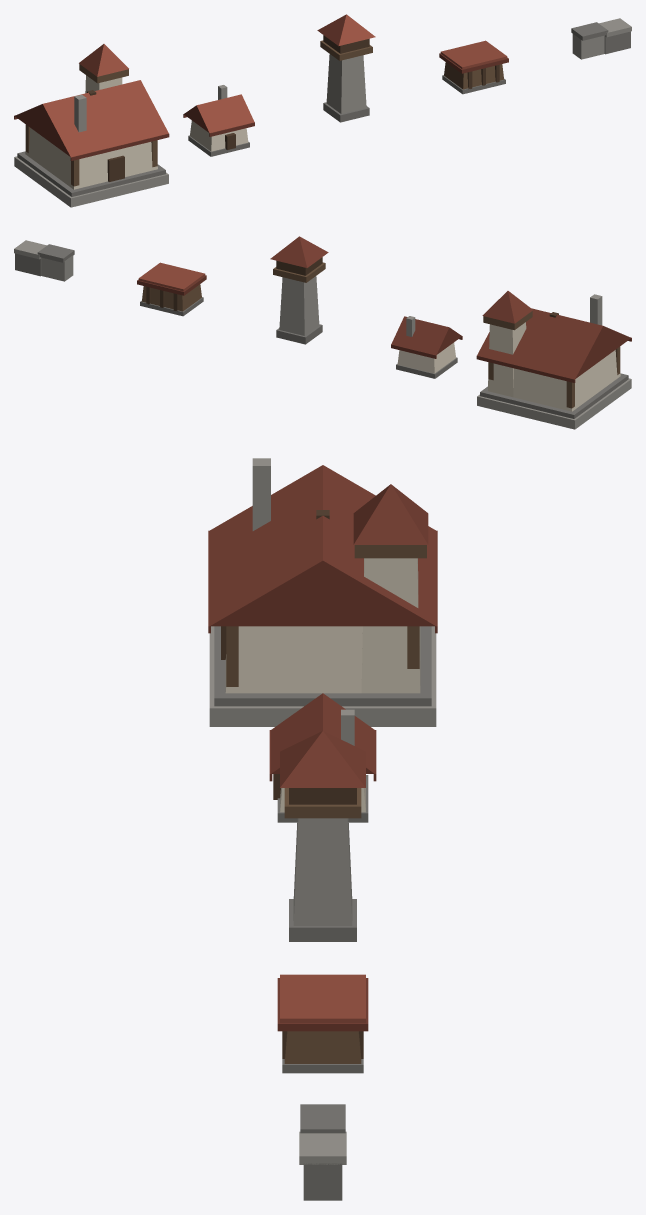
File: buildings.glb
3 renders of one model, top to bottom at view 1: azimuth 30°, elevation 25°; view 2: azimuth 150°, elevation 25°; view 3: azimuth 270°, elevation 25°, orthographic. The views are drawn at different scales.
Parts seen in each view (by area): view 1: keep, tower, house, store, wall; view 2: keep, tower, house, store, wall; view 3: keep, tower, store, house, wall.
Boxes of the visible parts, <box> form: keep: <box>14,44,169,207</box>; tower: <box>317,14,375,122</box>; house: <box>183,85,254,156</box>; store: <box>439,40,508,94</box>; wall: <box>571,18,631,59</box>; keep: <box>476,291,631,429</box>; tower: <box>270,236,328,344</box>; house: <box>391,316,462,378</box>; store: <box>137,262,206,316</box>; wall: <box>14,240,74,281</box>; keep: <box>208,458,437,726</box>; tower: <box>280,731,365,941</box>; store: <box>277,974,368,1073</box>; house: <box>269,693,376,822</box>; wall: <box>299,1104,346,1200</box>.
Size of the model in its own units: 11.9 by 2.18 by 2.02.
